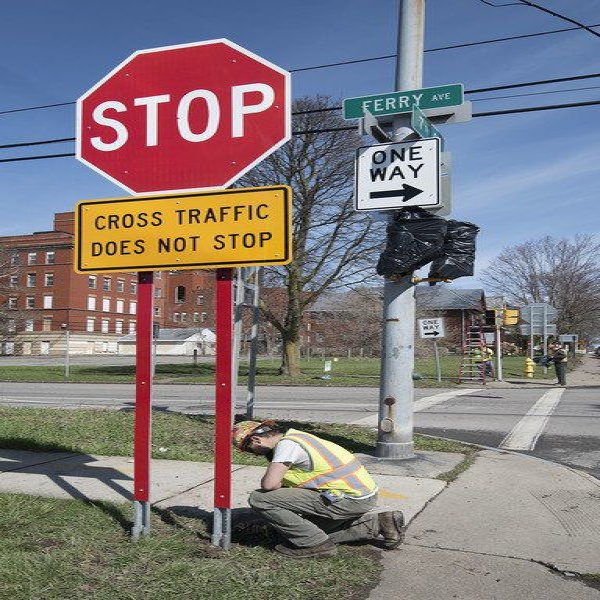stop: (60, 39, 295, 195)
